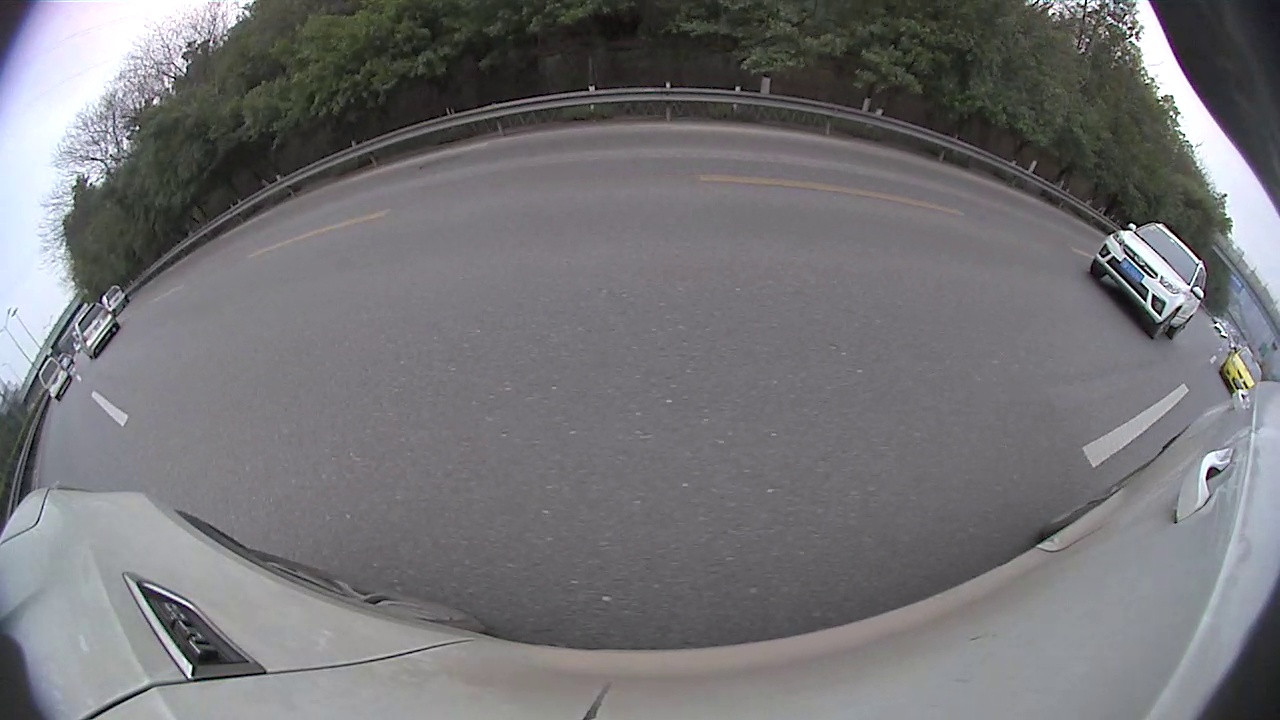car: (584, 104, 822, 263), (817, 124, 1045, 276), (1034, 228, 1194, 326), (382, 150, 544, 240), (544, 153, 591, 195)
front: (1041, 244, 1069, 270), (534, 178, 548, 204)
rear: (874, 201, 928, 260), (1127, 283, 1155, 317), (487, 195, 505, 233)
